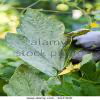Squash Powdery mildew leaf: (5, 5, 93, 76)
